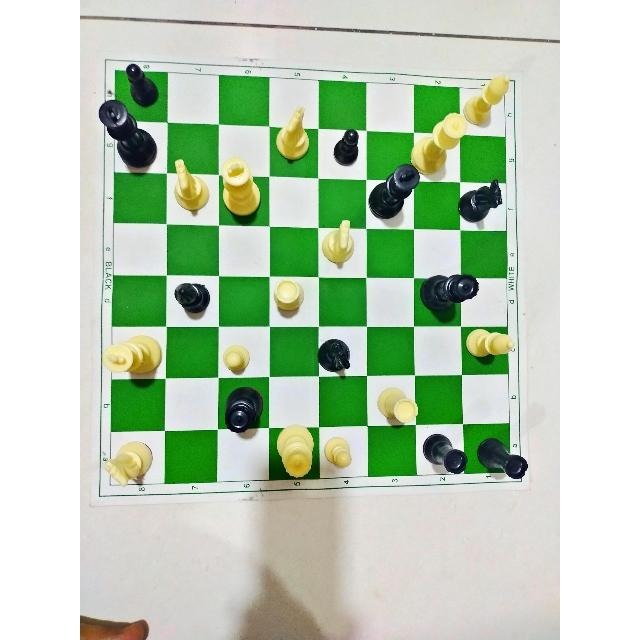black-bishop: (171, 278, 217, 318)
black-king: (94, 100, 158, 172), (367, 160, 421, 221)
black-knight: (460, 177, 504, 226), (313, 335, 356, 377)
black-pawn: (122, 60, 162, 110), (331, 127, 367, 170)
black-queen: (421, 270, 481, 318), (222, 385, 266, 435)
black-rook: (474, 432, 530, 484), (421, 429, 469, 476)
white-bishop: (464, 70, 515, 126), (466, 323, 518, 362)
white-king: (101, 331, 164, 383), (216, 155, 263, 223)
white-knight: (100, 436, 151, 490), (271, 106, 316, 163), (170, 156, 212, 216), (322, 219, 358, 267)
white-pawn: (322, 431, 356, 475), (221, 340, 252, 384)
white-queen: (407, 110, 470, 171), (273, 421, 319, 480)
white-rook: (375, 381, 423, 431), (267, 278, 309, 312)
